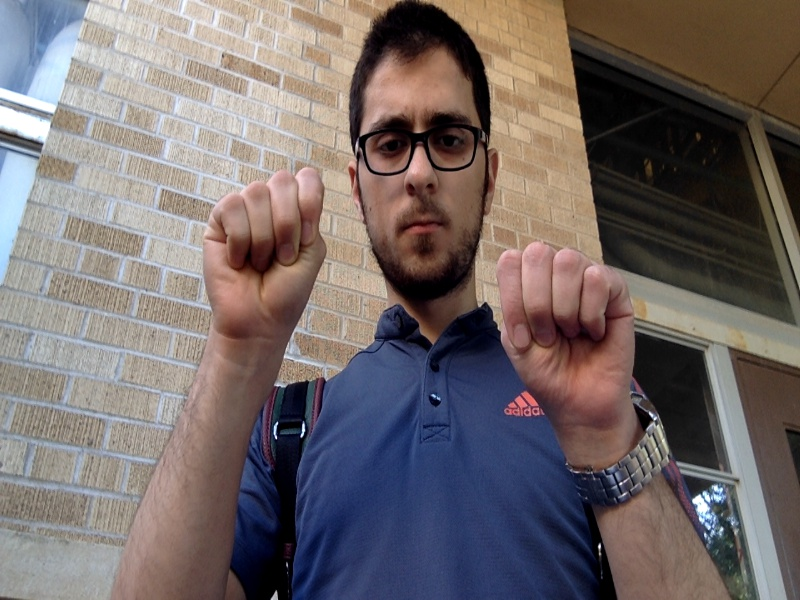0-hand: (498, 245, 637, 429), (203, 167, 326, 337)
